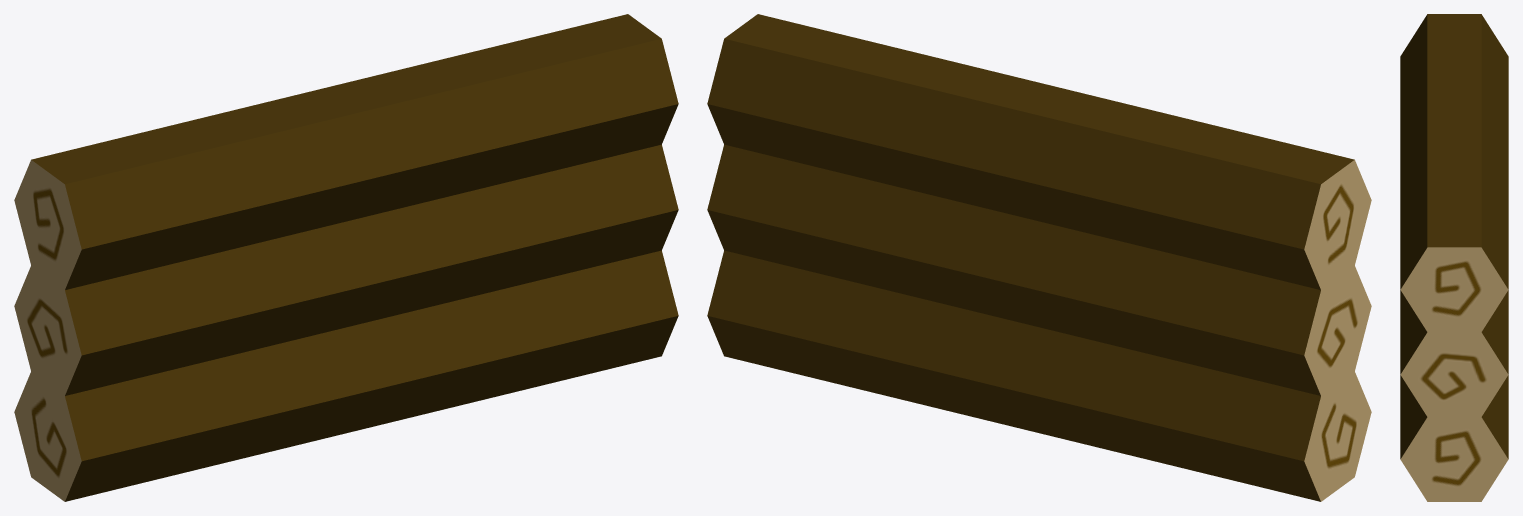
The model's file is Wall_4x3.fbx.
3 renders of one model, left to right at view 1: azimuth 30°, elevation 25°; view 2: azimuth 150°, elevation 25°; view 3: azimuth 270°, elevation 25°, orthographic. The views are drawn at different scales.
Visible parts, largest first — view 1: Wall_4x3; view 2: Wall_4x3; view 3: Wall_4x3.
Boxes of the visible parts, x1,y1,x2,y2 form: Wall_4x3: (14, 14, 678, 501); Wall_4x3: (707, 14, 1371, 501); Wall_4x3: (1400, 14, 1508, 501).
Bounding box in the file's own units: 10.22 × 5.2 × 2.
